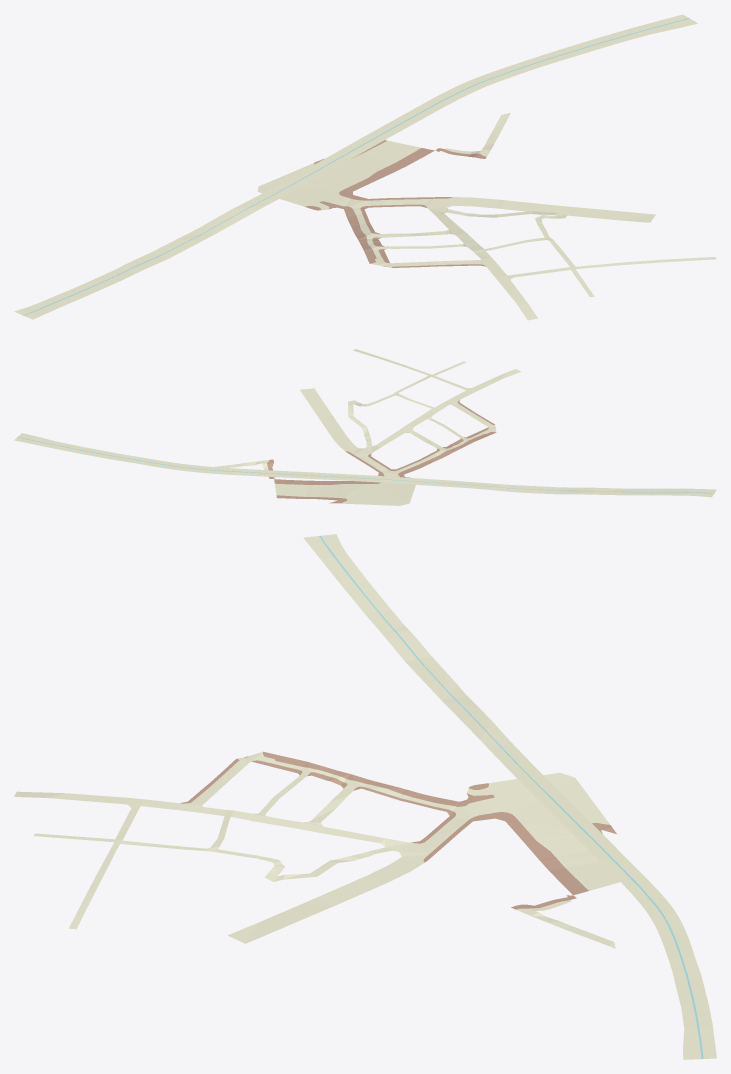
The model's file is data76.glb.
The picture shows the model from 3 angles, top to bottom: view 1: azimuth 30°, elevation 25°; view 2: azimuth 150°, elevation 25°; view 3: azimuth 270°, elevation 25°; orthographic projection. The views are drawn at different scales.
Bounding box in the file's own units: 691 × 25.97 × 402.
